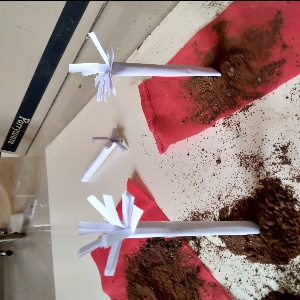weed: (70, 192, 259, 274), (67, 26, 222, 106), (78, 128, 131, 185)
